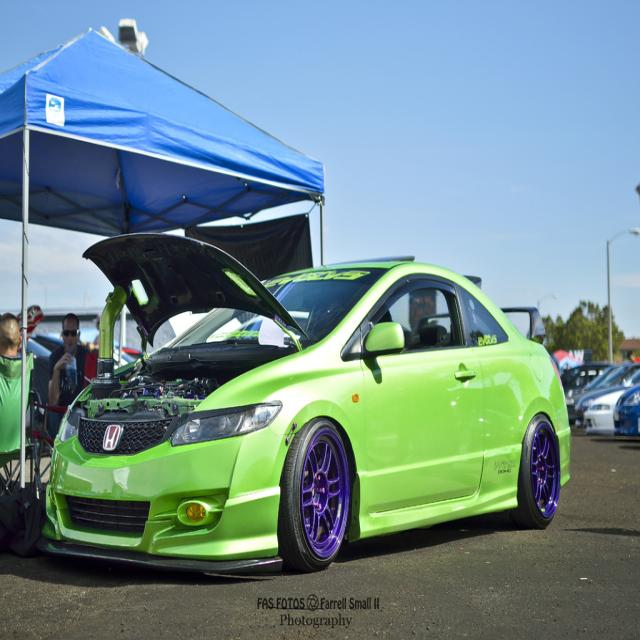Passenger Car: (40, 243, 574, 578)
